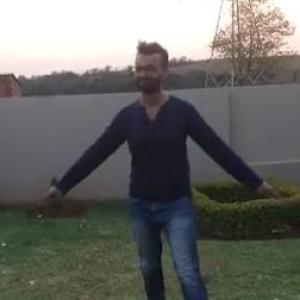land: (37, 38, 277, 299)
